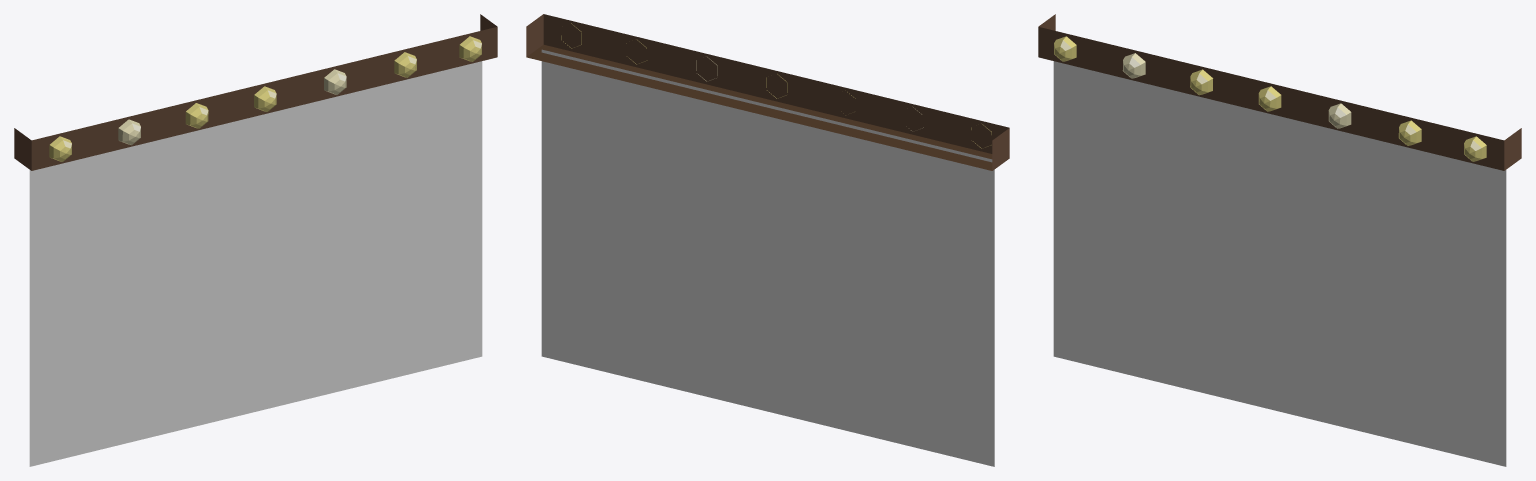
Rendered from RDMASign.glb.
3 renders of one model, left to right at view 1: azimuth 30°, elevation 25°; view 2: azimuth 150°, elevation 25°; view 3: azimuth 330°, elevation 25°, orthographic.
Parts seen in each view (by area): view 1: RDMASign; view 2: RDMASign; view 3: RDMASign.
Boxes of the visible parts, bbox=[...] form: RDMASign: bbox=[14, 14, 497, 466]; RDMASign: bbox=[526, 14, 1009, 466]; RDMASign: bbox=[1038, 14, 1521, 466].
Size of the model in its own units: 2.46 by 1.69 by 0.2218.
